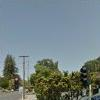Tree: (34, 51, 69, 100)
